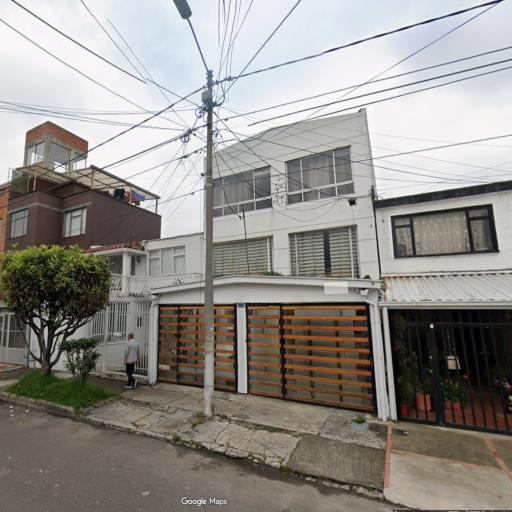Casa: (147, 108, 385, 418), (373, 180, 512, 439)
postes: (174, 0, 229, 416)
